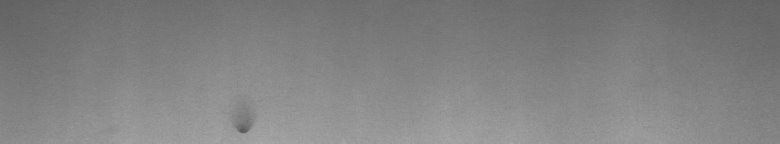fi: (235, 121, 252, 136)
